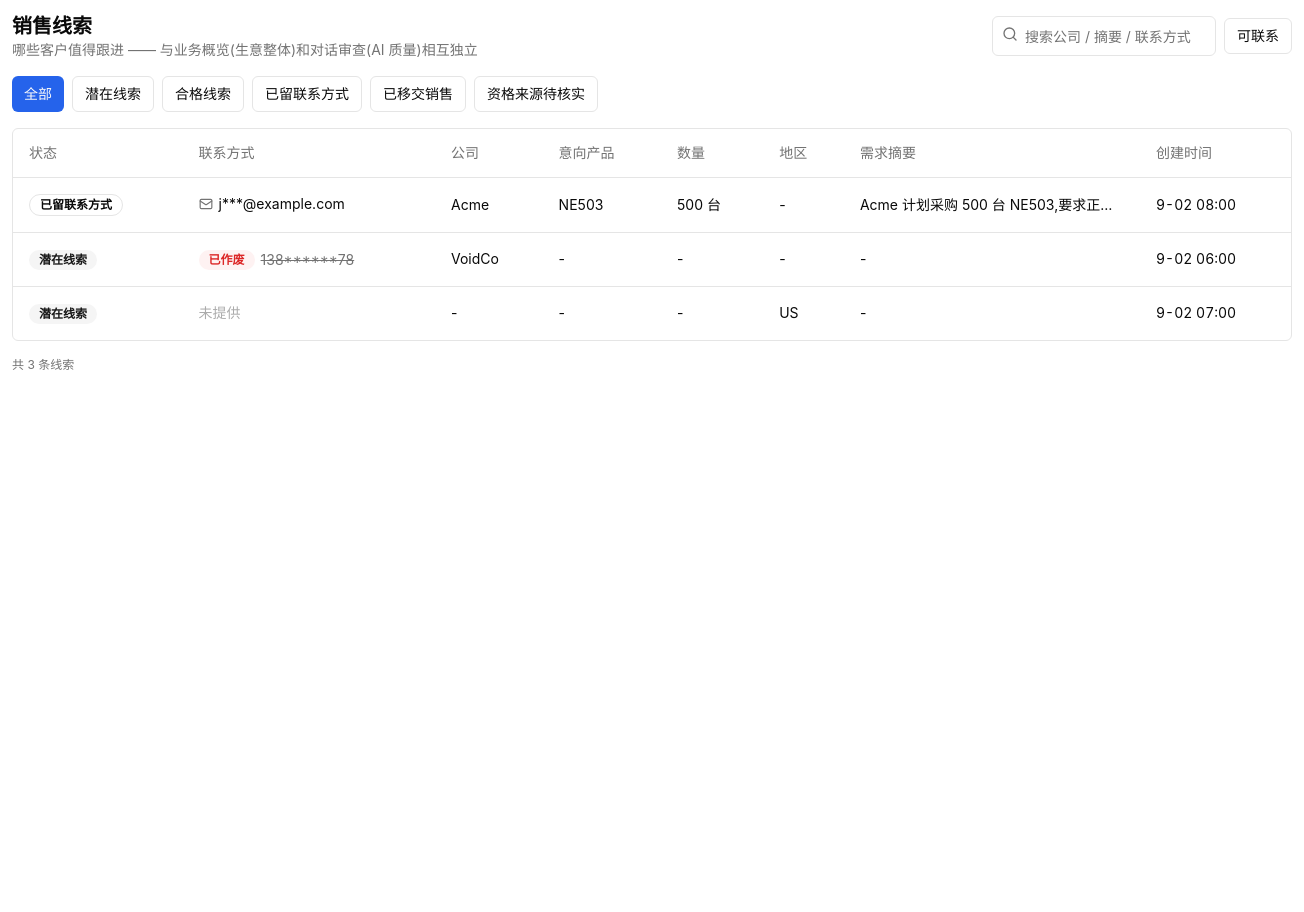
Test: SalesLeads page › opens detail panel with full contact and thread view (LEAD-G009)
Click the row with test id "lead-row" that starts with "已留联系方式". click: (652, 204)
box: [13, 177, 1291, 232]
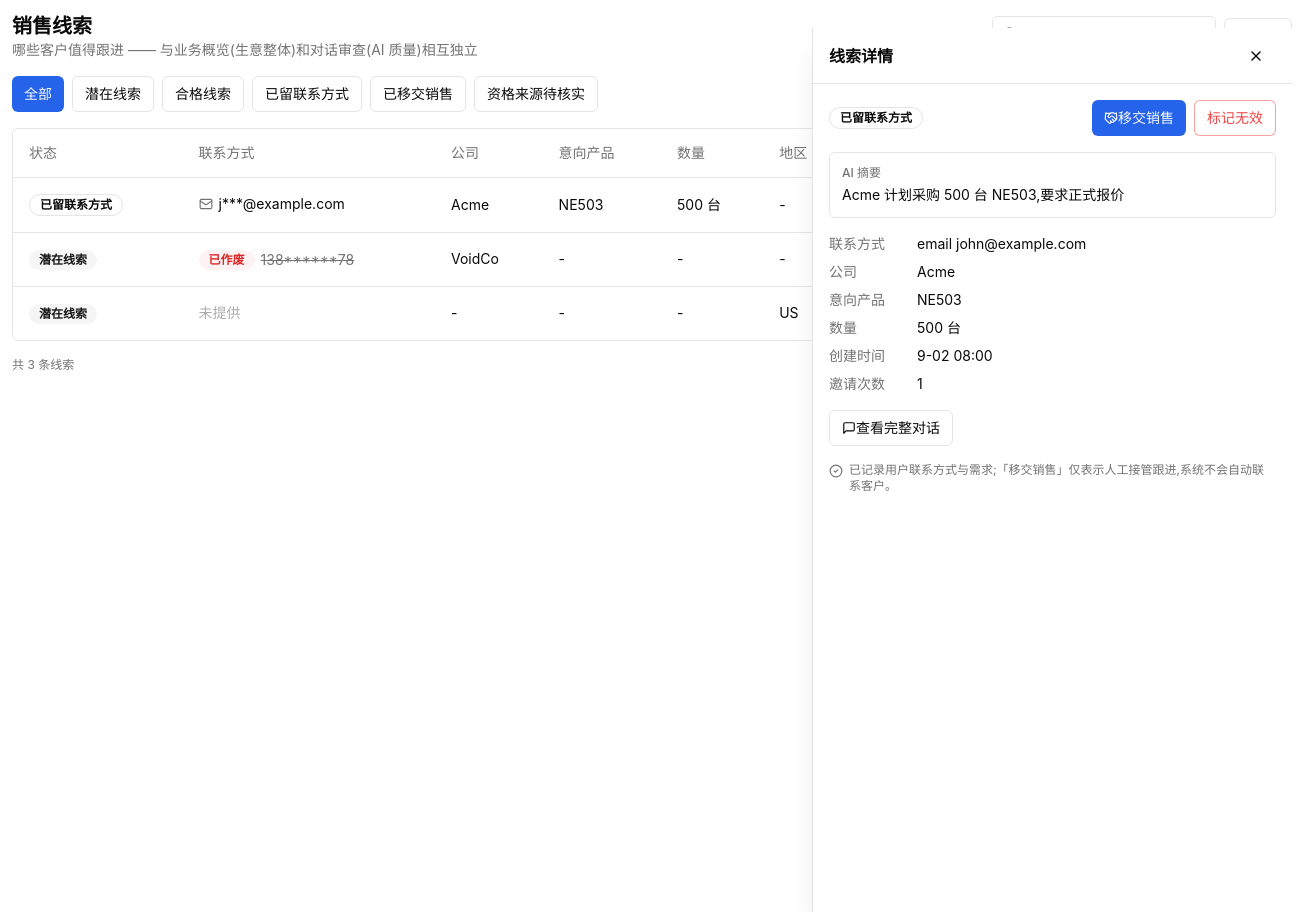
Result: the element with test id "lead-detail" is shown at [812, 28, 1292, 911]
Result: the text "email john@example.com" is shown at [917, 234, 1086, 254]
Click the button with test id "toggle-thread". click: (891, 428)
box: [829, 410, 953, 446]
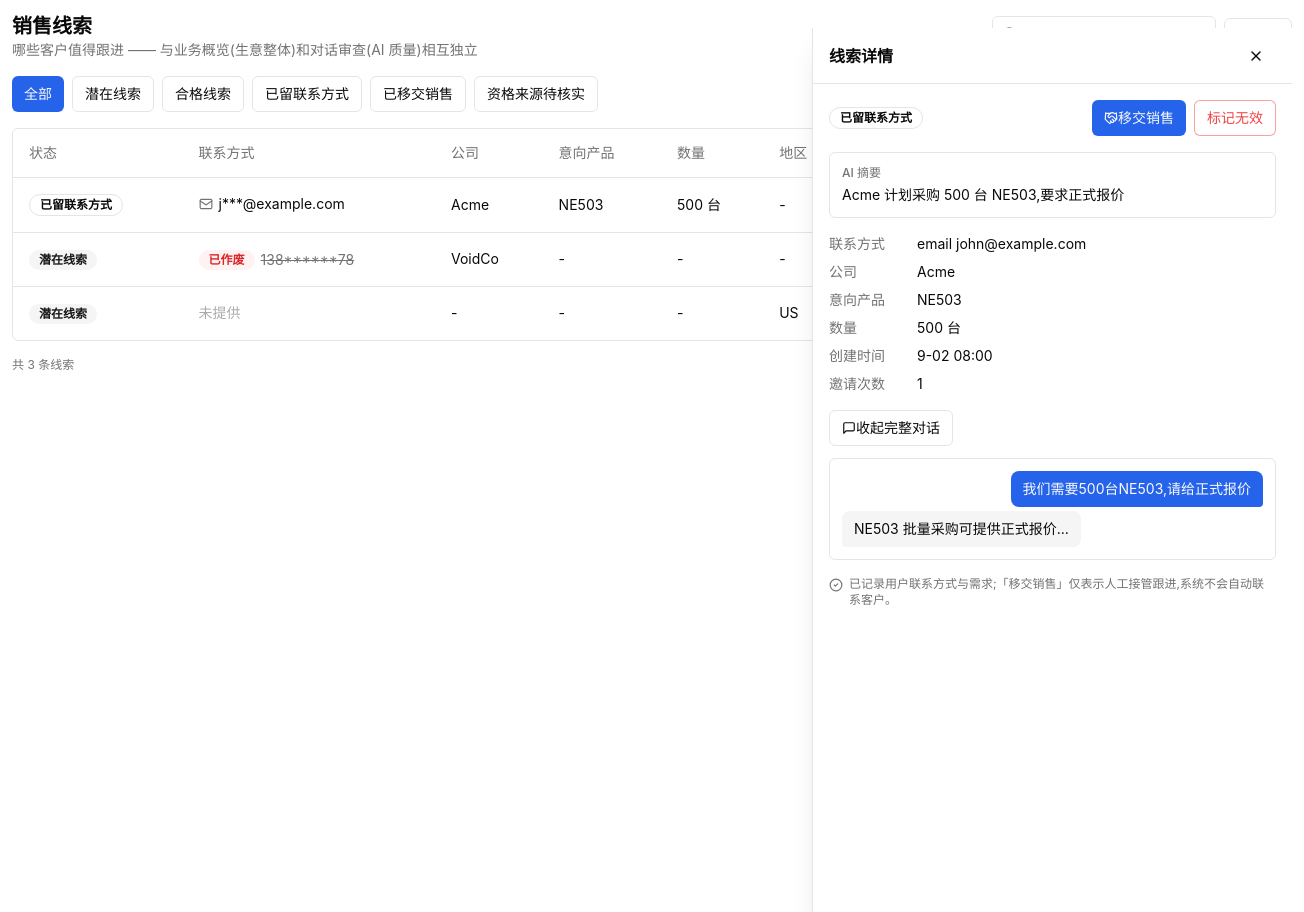
Result: the element with test id "lead-thread" is shown at [842, 471, 1263, 547]
Result: the text "我们需要500台NE503,请给正式报价" is shown at [1011, 471, 1263, 507]
